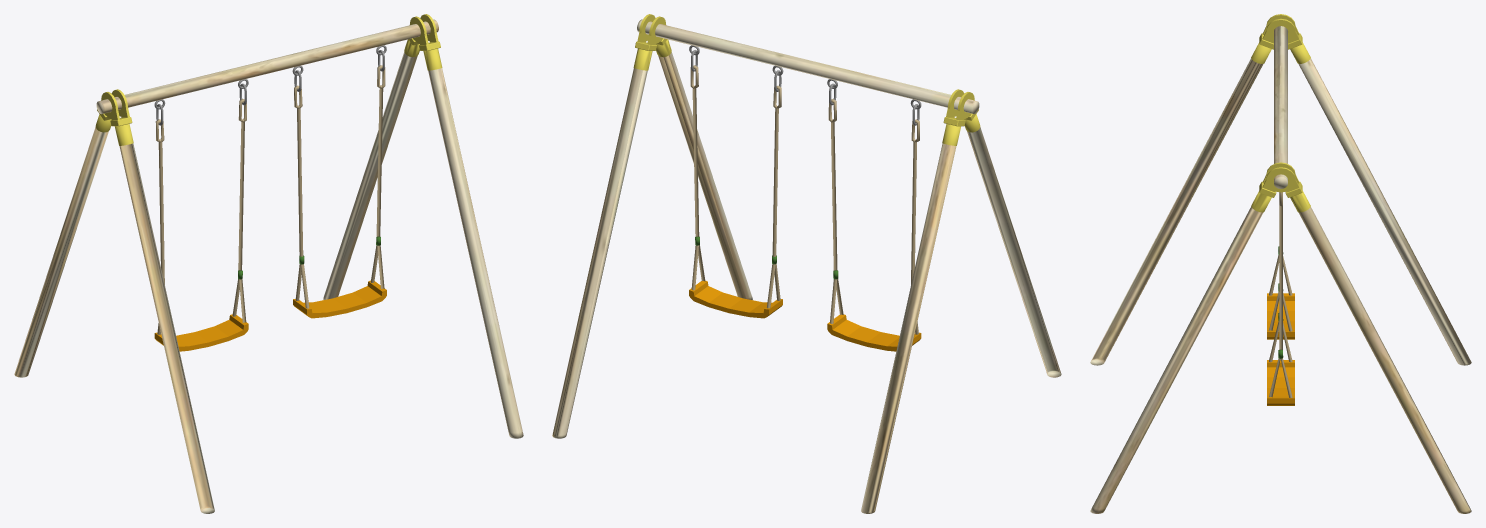
The model's file is sh-scopia-child-swing.glb.
3 views of the same model, side by side, from view 1: azimuth 30°, elevation 25°; view 2: azimuth 150°, elevation 25°; view 3: azimuth 270°, elevation 25° (orthographic).
Visible parts, largest first — view 1: Cylinder.004_Cylinder.007, Circle.001_Circle.002, Cube.001_Cube.002, Cylinder.005_Cylinder.008, Torus.007; view 2: Cylinder.004_Cylinder.007, Circle.001_Circle.002, Cube.001_Cube.002, Cylinder.005_Cylinder.008, Torus.007; view 3: Cylinder.004_Cylinder.007, Cylinder.005_Cylinder.008, Cube.001_Cube.002, Circle.001_Circle.002.
Boxes of the visible parts, x1,y1,x2,y2 form: Cylinder.004_Cylinder.007: (14, 19, 523, 513); Circle.001_Circle.002: (155, 65, 385, 334); Cube.001_Cube.002: (154, 280, 386, 351); Cylinder.005_Cylinder.008: (95, 14, 442, 145); Torus.007: (154, 45, 386, 125); Cylinder.004_Cylinder.007: (552, 19, 1061, 513); Circle.001_Circle.002: (690, 65, 919, 334); Cube.001_Cube.002: (689, 280, 921, 351); Cylinder.005_Cylinder.008: (633, 14, 980, 145); Torus.007: (689, 45, 921, 125); Cylinder.004_Cylinder.007: (1090, 26, 1471, 513); Cylinder.005_Cylinder.008: (1251, 14, 1310, 212); Cube.001_Cube.002: (1267, 293, 1294, 405); Circle.001_Circle.002: (1269, 192, 1292, 397).
Size of the model in its own units: 1 by 1 by 1.
6 materials, 1 textured.
